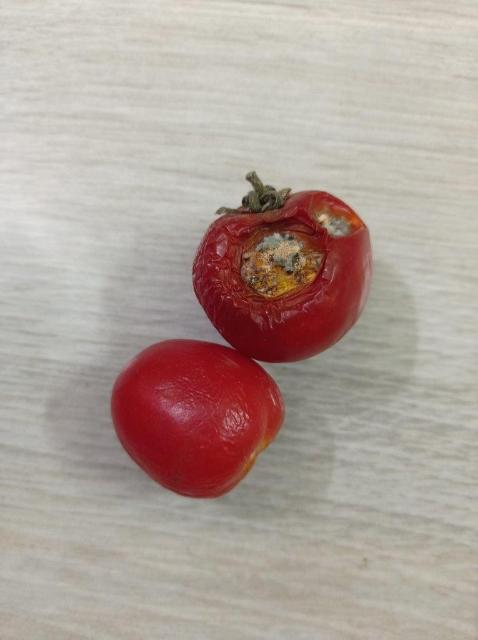defect: (188, 175, 376, 361)
